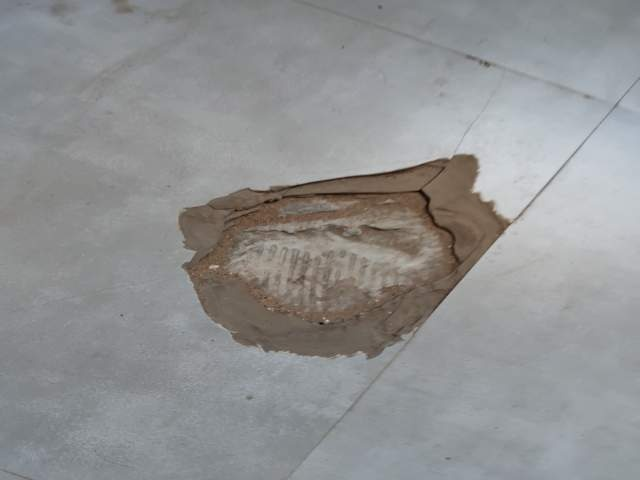pothole: (348, 258, 640, 438)
